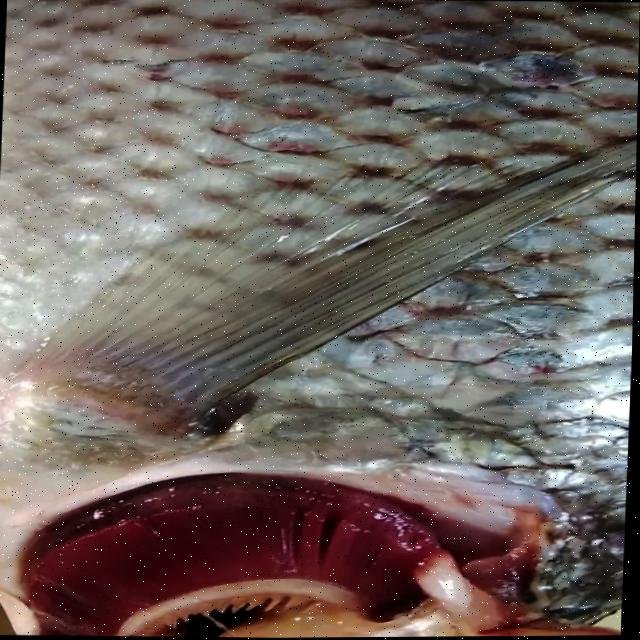Fresh: (0, 464, 526, 640)
